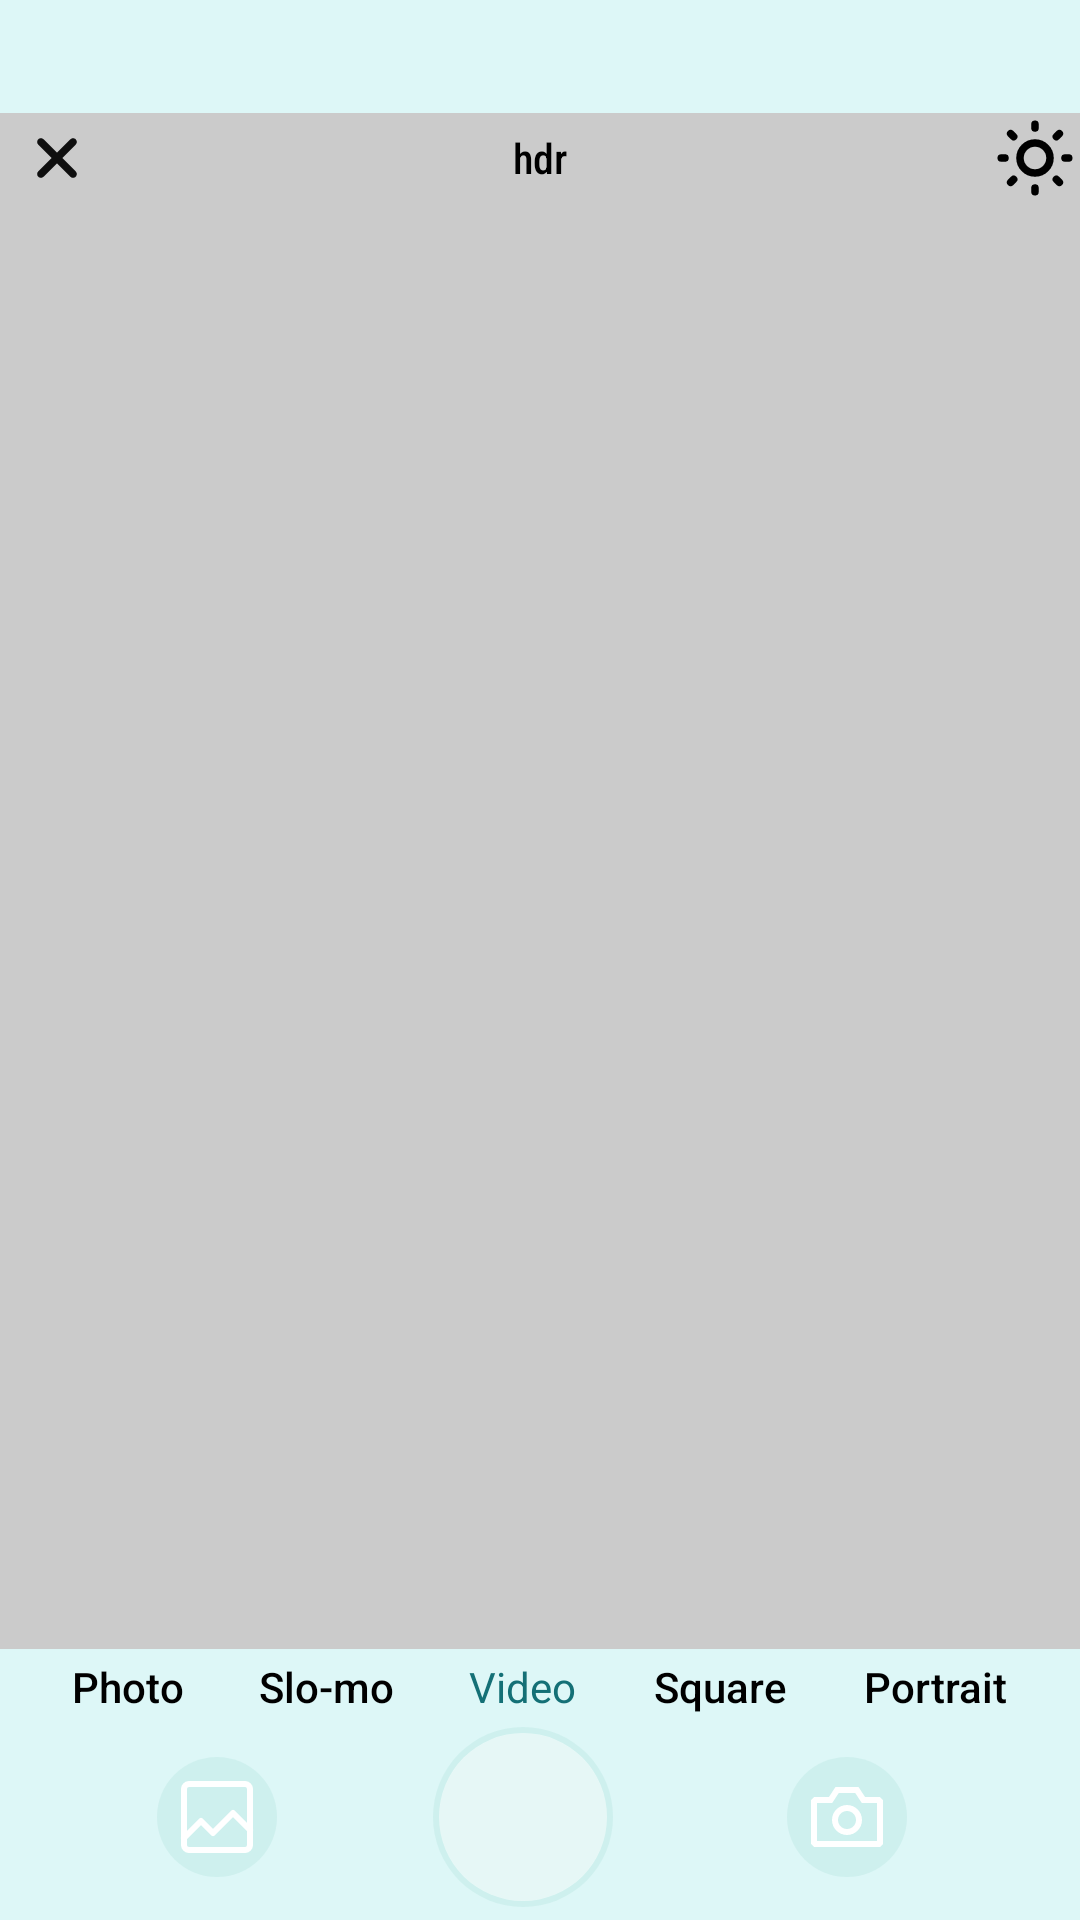

Icons on this 1080x1920 Android screen, each with its box as (x1, y1, x2, y2):
camera: (787, 1757, 907, 1877)
cross: (37, 138, 77, 178)
gallery: (157, 1757, 277, 1877)
sun: (997, 120, 1073, 196)
